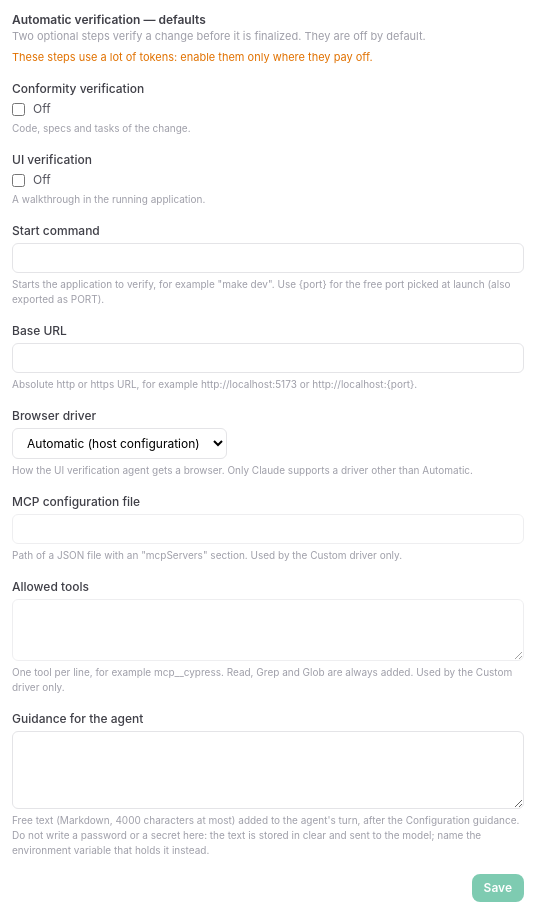
Test: VerificationSettingsForm — global scope › warns when the UI step is on without a start command
Click the switch labelled "UI verification".
click(18, 180)  # box 12,174 -> 25,186
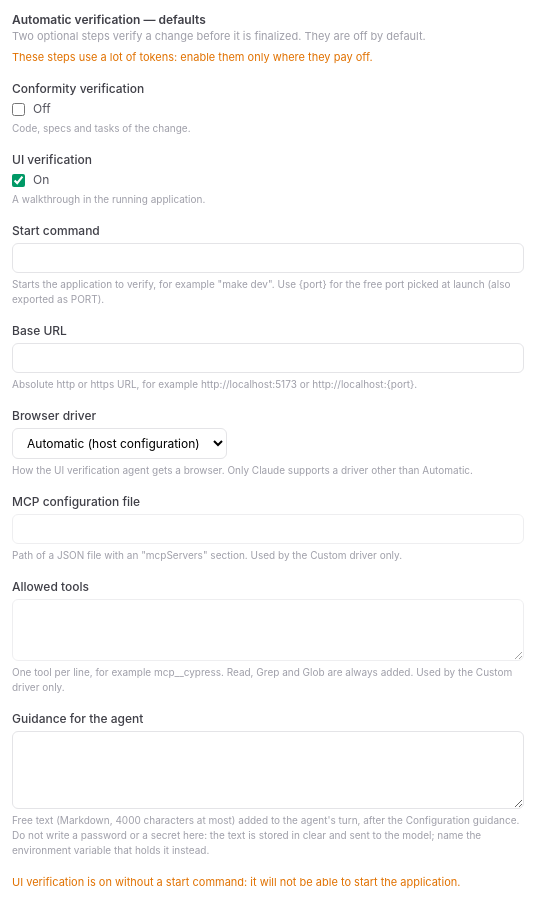
Now the message shows "UI verification is on without a start command: it will not be able to start the application.", box 12,875 -> 460,889
Type "make dev" into the field labelled "Start command".
click(268, 258); type("make dev")  # box 12,243 -> 524,273
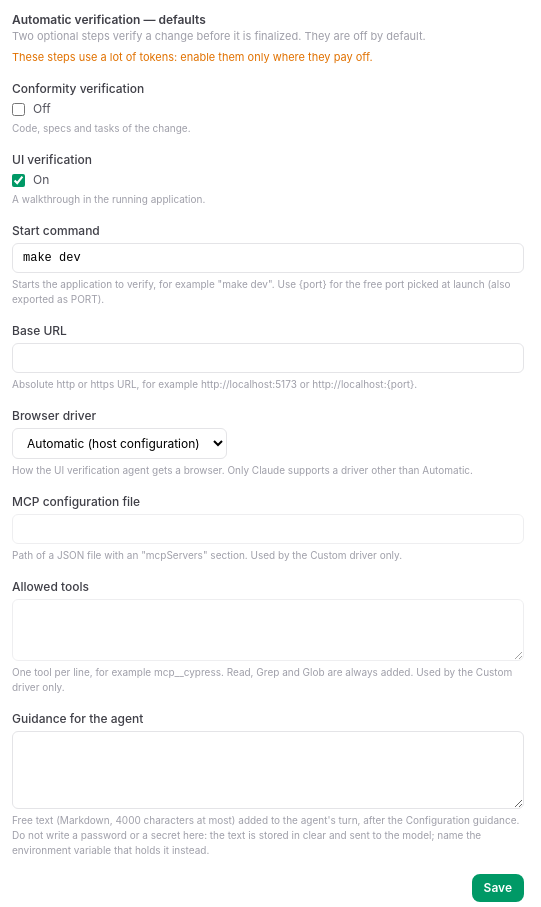
Now the message "UI verification is on without a start command: it will not be able to start the" is gone
